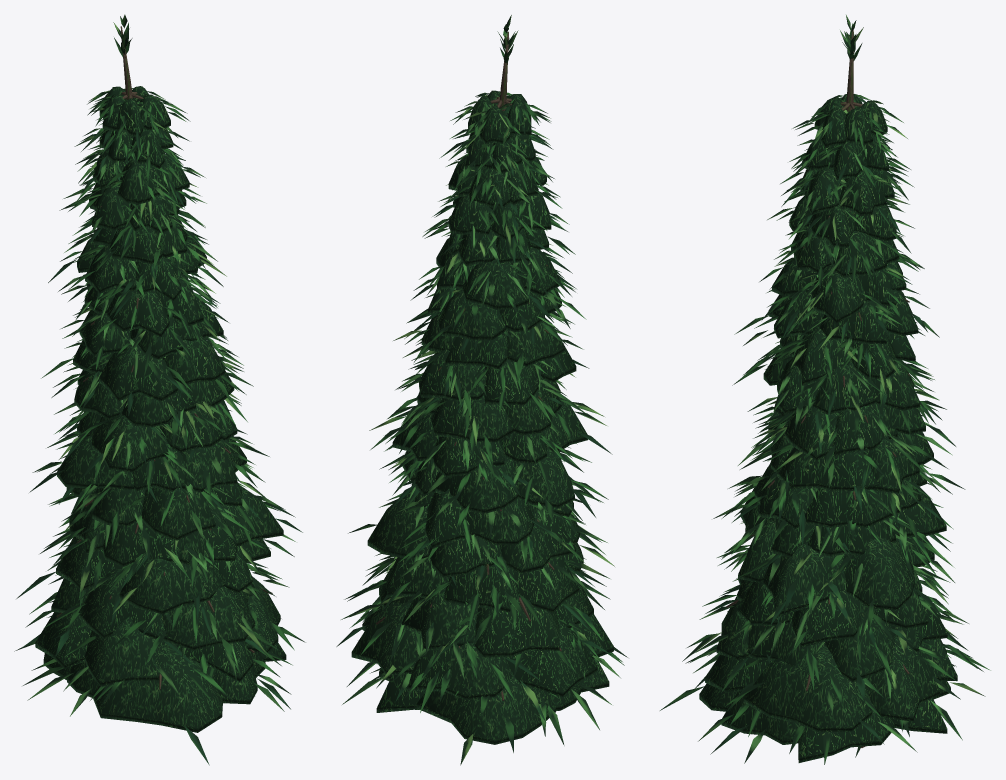
File: Conifer_Tall.glb
The picture shows the model from 3 angles, left to right: view 1: azimuth 30°, elevation 25°; view 2: azimuth 150°, elevation 25°; view 3: azimuth 270°, elevation 25°; orthographic projection. The views are drawn at different scales.
Parts seen in each view (by area): view 1: Conifer_Tall__Needles_Mass, Conifer_Tall__Needles_Detail, Conifer_Tall__Bark; view 2: Conifer_Tall__Needles_Mass, Conifer_Tall__Needles_Detail, Conifer_Tall__Bark; view 3: Conifer_Tall__Needles_Mass, Conifer_Tall__Needles_Detail, Conifer_Tall__Bark.
Part boxes in pixels (box(x1,y1,x2,y2)): Conifer_Tall__Needles_Mass: box(35, 86, 286, 732); Conifer_Tall__Needles_Detail: box(14, 14, 305, 765); Conifer_Tall__Bark: box(56, 26, 272, 689); Conifer_Tall__Needles_Mass: box(351, 90, 613, 744); Conifer_Tall__Needles_Detail: box(336, 15, 627, 765); Conifer_Tall__Bark: box(376, 31, 561, 700); Conifer_Tall__Needles_Mass: box(699, 94, 957, 762); Conifer_Tall__Needles_Detail: box(660, 15, 990, 764); Conifer_Tall__Bark: box(726, 30, 909, 747).
Size of the model in its own units: 26.94 by 68.45 by 29.53.
Materials: 2 (2 with a texture image).
